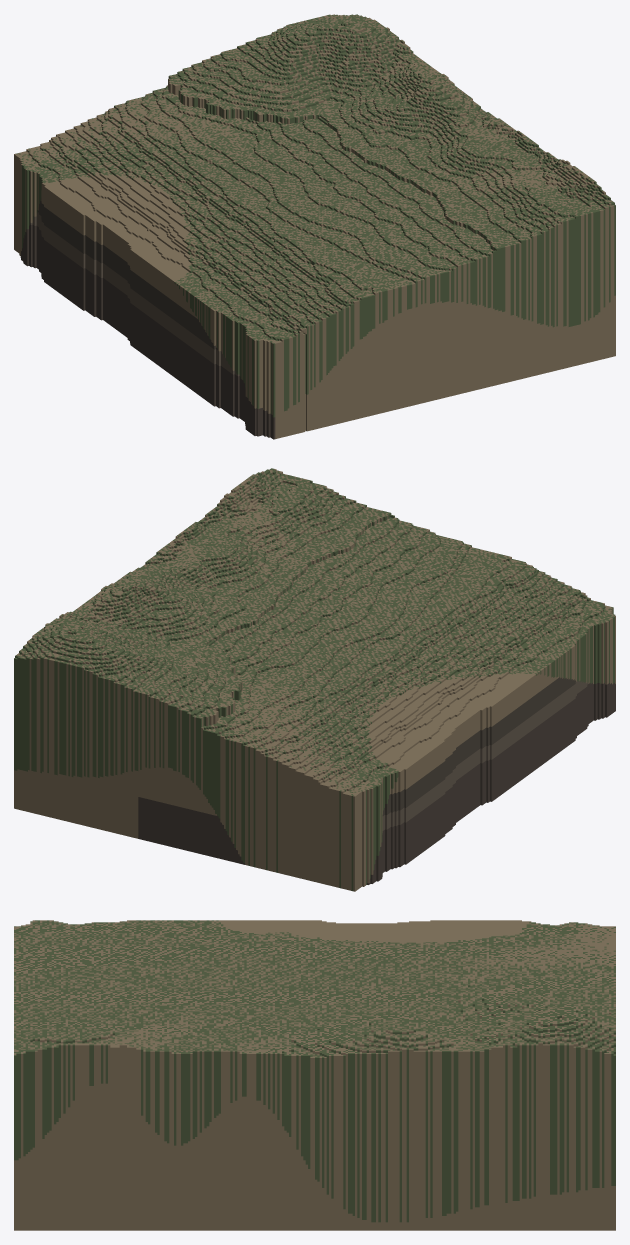
Rendered from Combined Desert(3)-14-tile 11 - above water 3.obj.
3 renders of one model, top to bottom at view 1: azimuth 30°, elevation 25°; view 2: azimuth 150°, elevation 25°; view 3: azimuth 270°, elevation 25°, orthographic. The views are drawn at different scales.
Parts seen in each view (by area): view 1: tile 11 - above water 3; view 2: tile 11 - above water 3; view 3: tile 11 - above water 3.
Boxes of the visible parts, x1,y1,x2,y2 form: tile 11 - above water 3: [14, 14, 615, 439]; tile 11 - above water 3: [14, 468, 615, 891]; tile 11 - above water 3: [14, 920, 615, 1230].
Size of the model in its own units: 20.1 by 9.2 by 25.6.
1 material, 1 textured.
